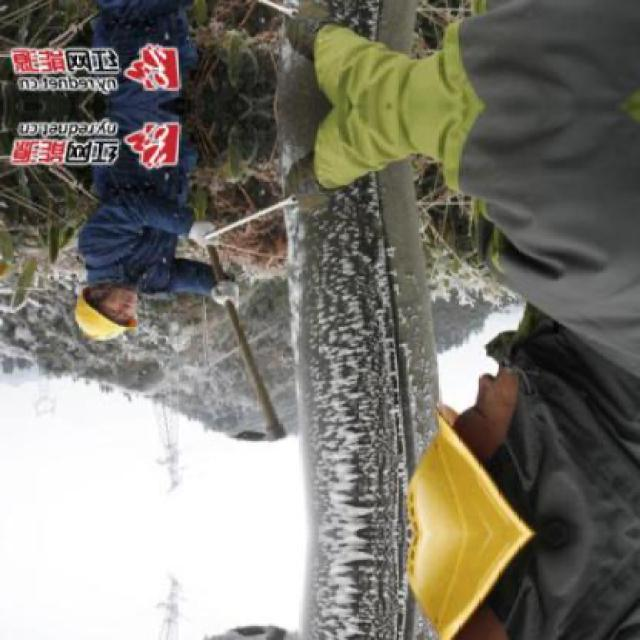con casco: (50, 273, 166, 360)
